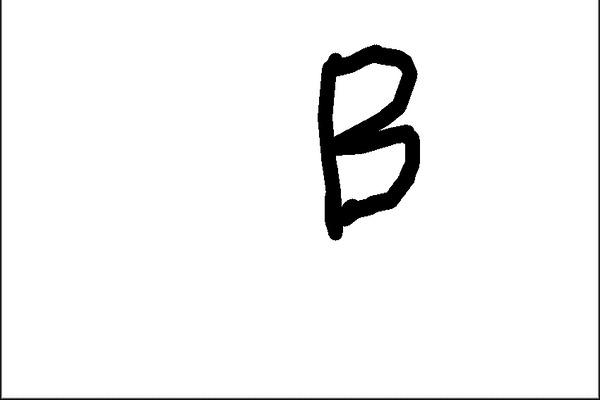B: (307, 39, 433, 249)
